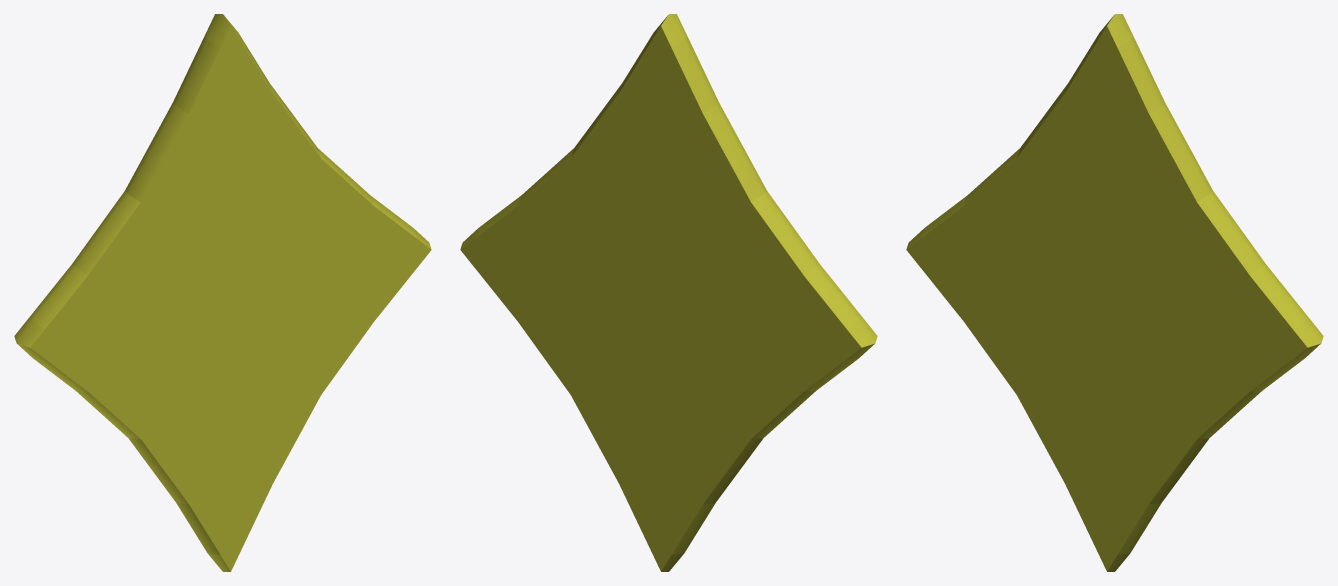
Rendered from dia.fbx.
3 renders of one model, left to right at view 1: azimuth 30°, elevation 25°; view 2: azimuth 150°, elevation 25°; view 3: azimuth 330°, elevation 25°, orthographic.
Parts seen in each view (by area): view 1: diamond; view 2: diamond; view 3: diamond.
Boxes of the visible parts, bbox=[...] form: diamond: bbox=[14, 14, 431, 571]; diamond: bbox=[460, 14, 877, 571]; diamond: bbox=[906, 14, 1323, 571].
Bounding box in the file's own units: 1.49 × 1.93 × 0.1.
